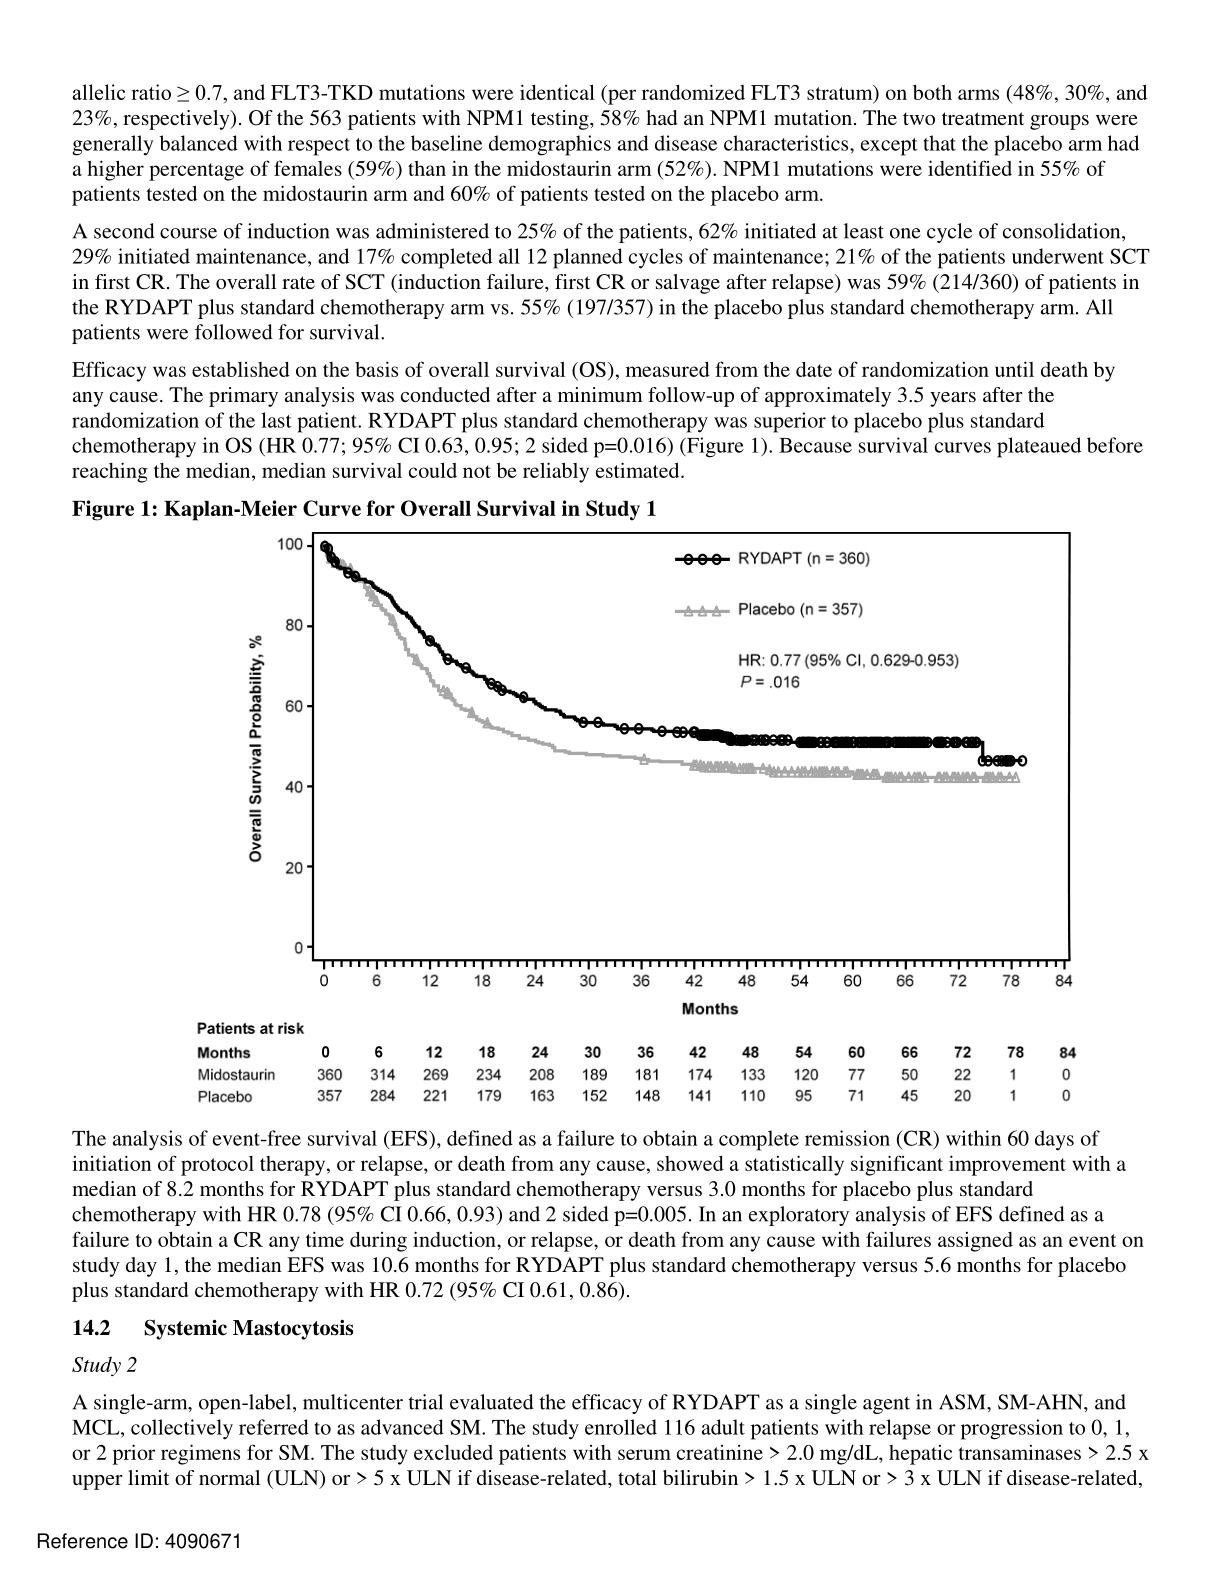nolines: (194, 1018, 1077, 1106)
